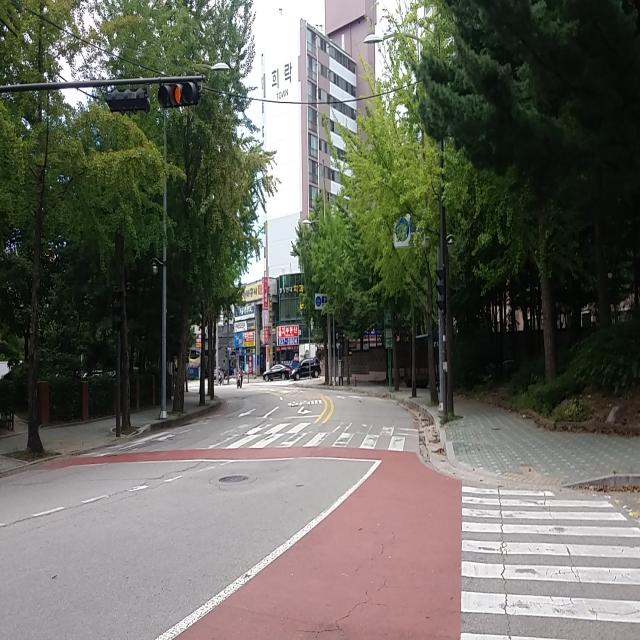횡단보도: (459, 482, 640, 640), (145, 404, 430, 452)
